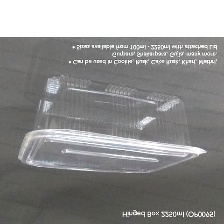plastic_box: (11, 69, 213, 182)
